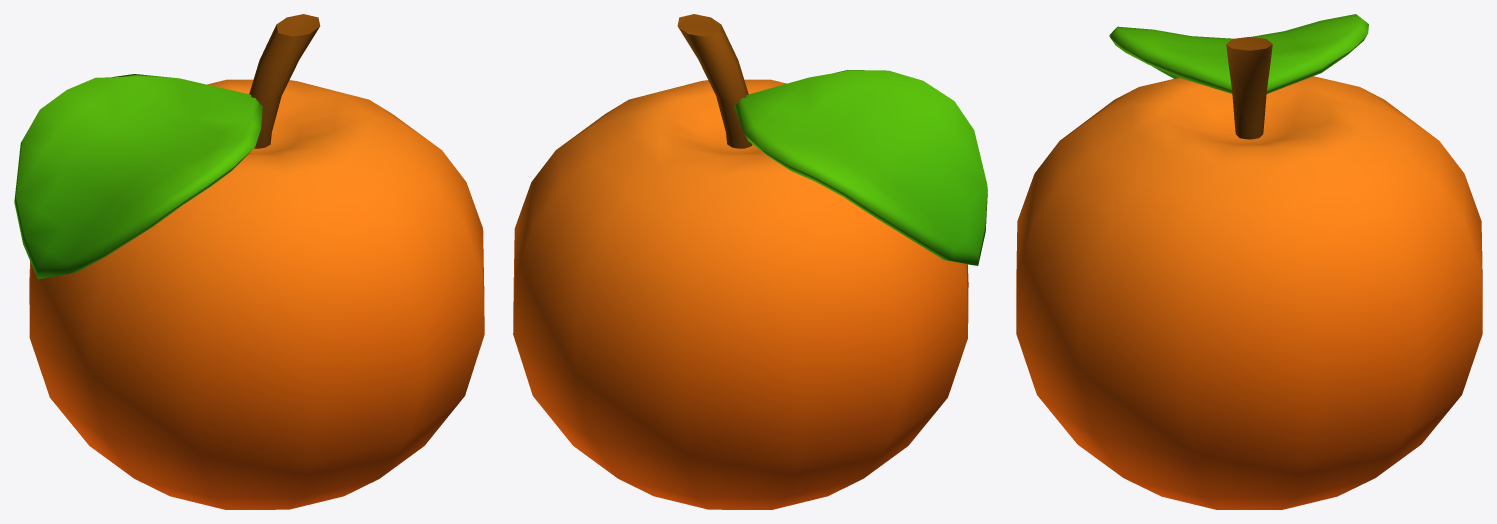
Rendered from Farm_Tree_Product_Orange_01.glb.
3 renders of one model, left to right at view 1: azimuth 30°, elevation 25°; view 2: azimuth 150°, elevation 25°; view 3: azimuth 270°, elevation 25°, orthographic. The views are drawn at different scales.
Visible parts, largest first — view 1: Farm_Tree_Product_Orange_01; view 2: Farm_Tree_Product_Orange_01; view 3: Farm_Tree_Product_Orange_01.
Boxes of the visible parts, bbox=[...] form: Farm_Tree_Product_Orange_01: bbox=[14, 14, 484, 509]; Farm_Tree_Product_Orange_01: bbox=[513, 14, 987, 509]; Farm_Tree_Product_Orange_01: bbox=[1016, 14, 1482, 509].
Bounding box in the file's own units: 0.321 × 0.3213 × 0.2967.
Materials: 1 (1 with a texture image).
